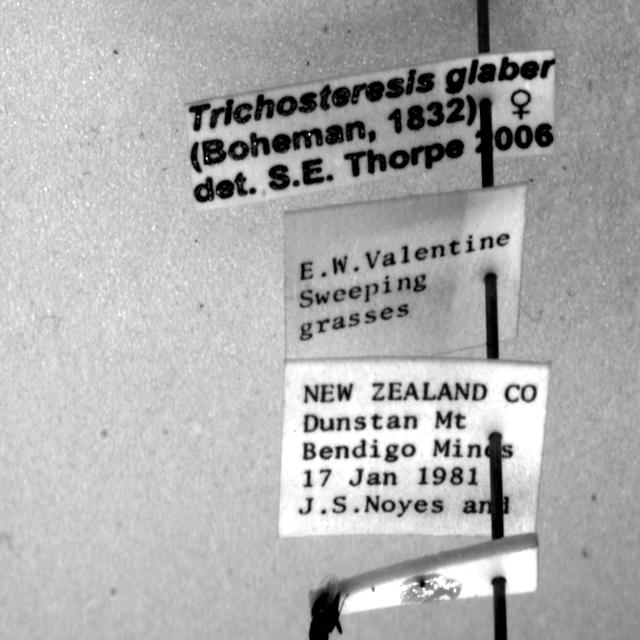typed_label: (185, 51, 555, 210), (279, 358, 550, 536), (285, 184, 528, 358)
